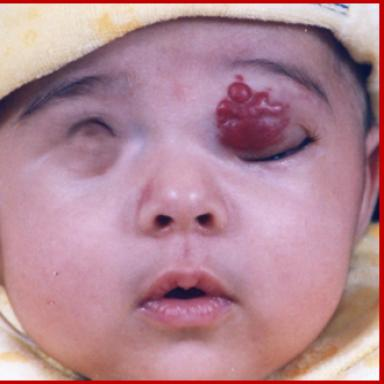Hemangiome: (217, 80, 289, 151)
